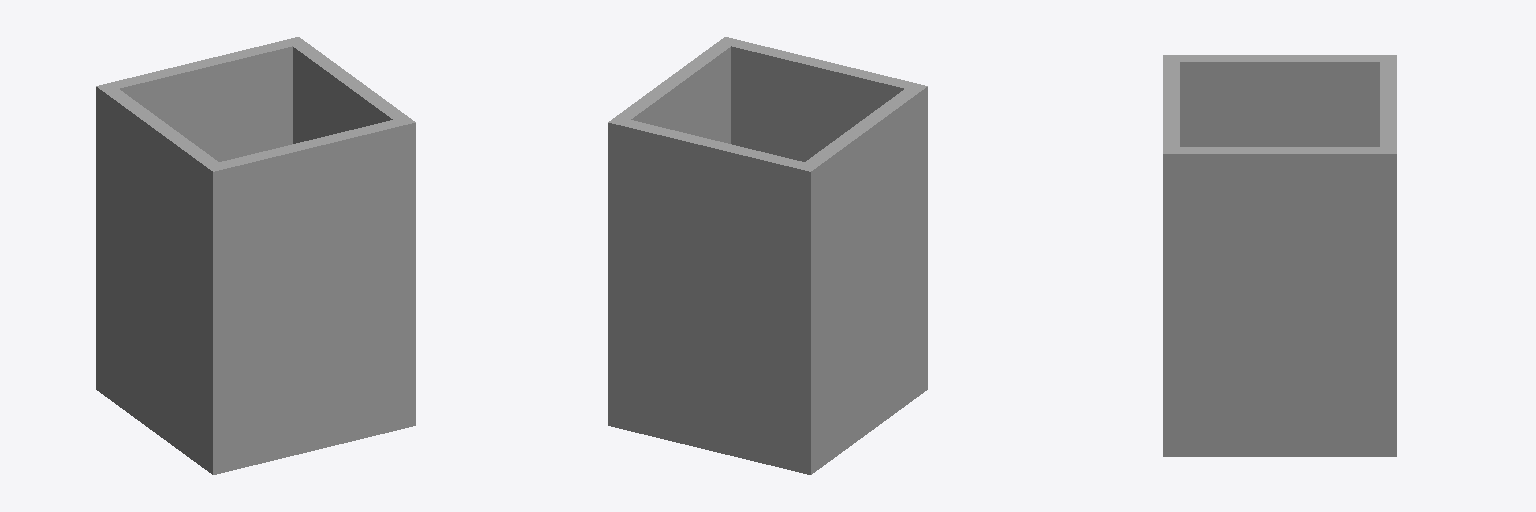
The model's file is Shaft2m.obj.
3 renders of one model, left to right at view 1: azimuth 30°, elevation 25°; view 2: azimuth 150°, elevation 25°; view 3: azimuth 270°, elevation 25°, orthographic.
Parts seen in each view (by area): view 1: Shaft2m_Main-Aluminum; view 2: Shaft2m_Main-Aluminum; view 3: Shaft2m_Main-Aluminum.
Boxes of the visible parts, x1=… form: Shaft2m_Main-Aluminum: x1=96, y1=37, x2=415, y2=474; Shaft2m_Main-Aluminum: x1=608, y1=37, x2=927, y2=474; Shaft2m_Main-Aluminum: x1=1163, y1=55, x2=1396, y2=456.
Bounding box in the file's own units: 1.4 × 2 × 1.4.